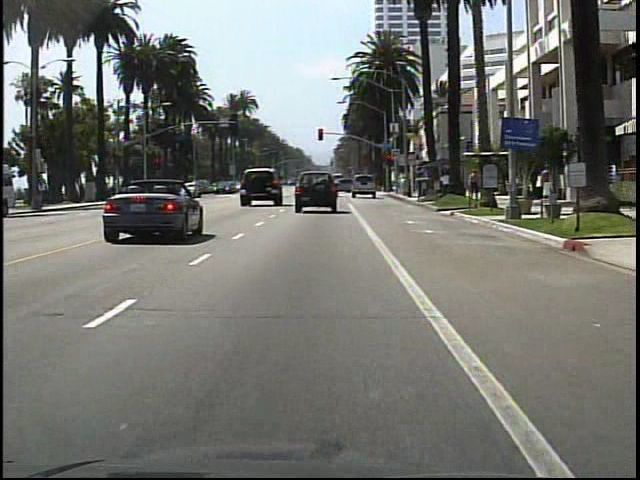person: (468, 165, 482, 204), (436, 170, 455, 198)
